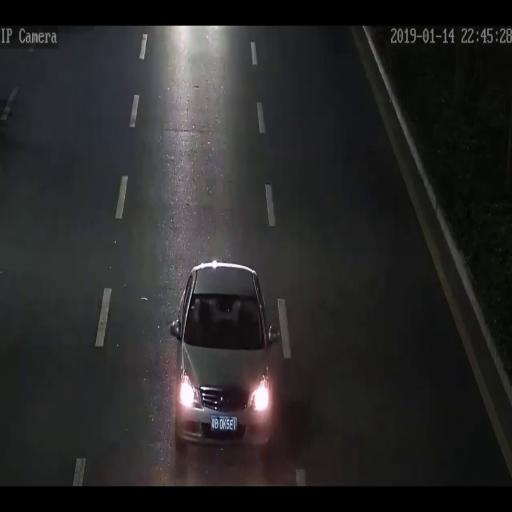License plate: (210, 415, 238, 432)
Vehicle: (170, 261, 280, 449)
